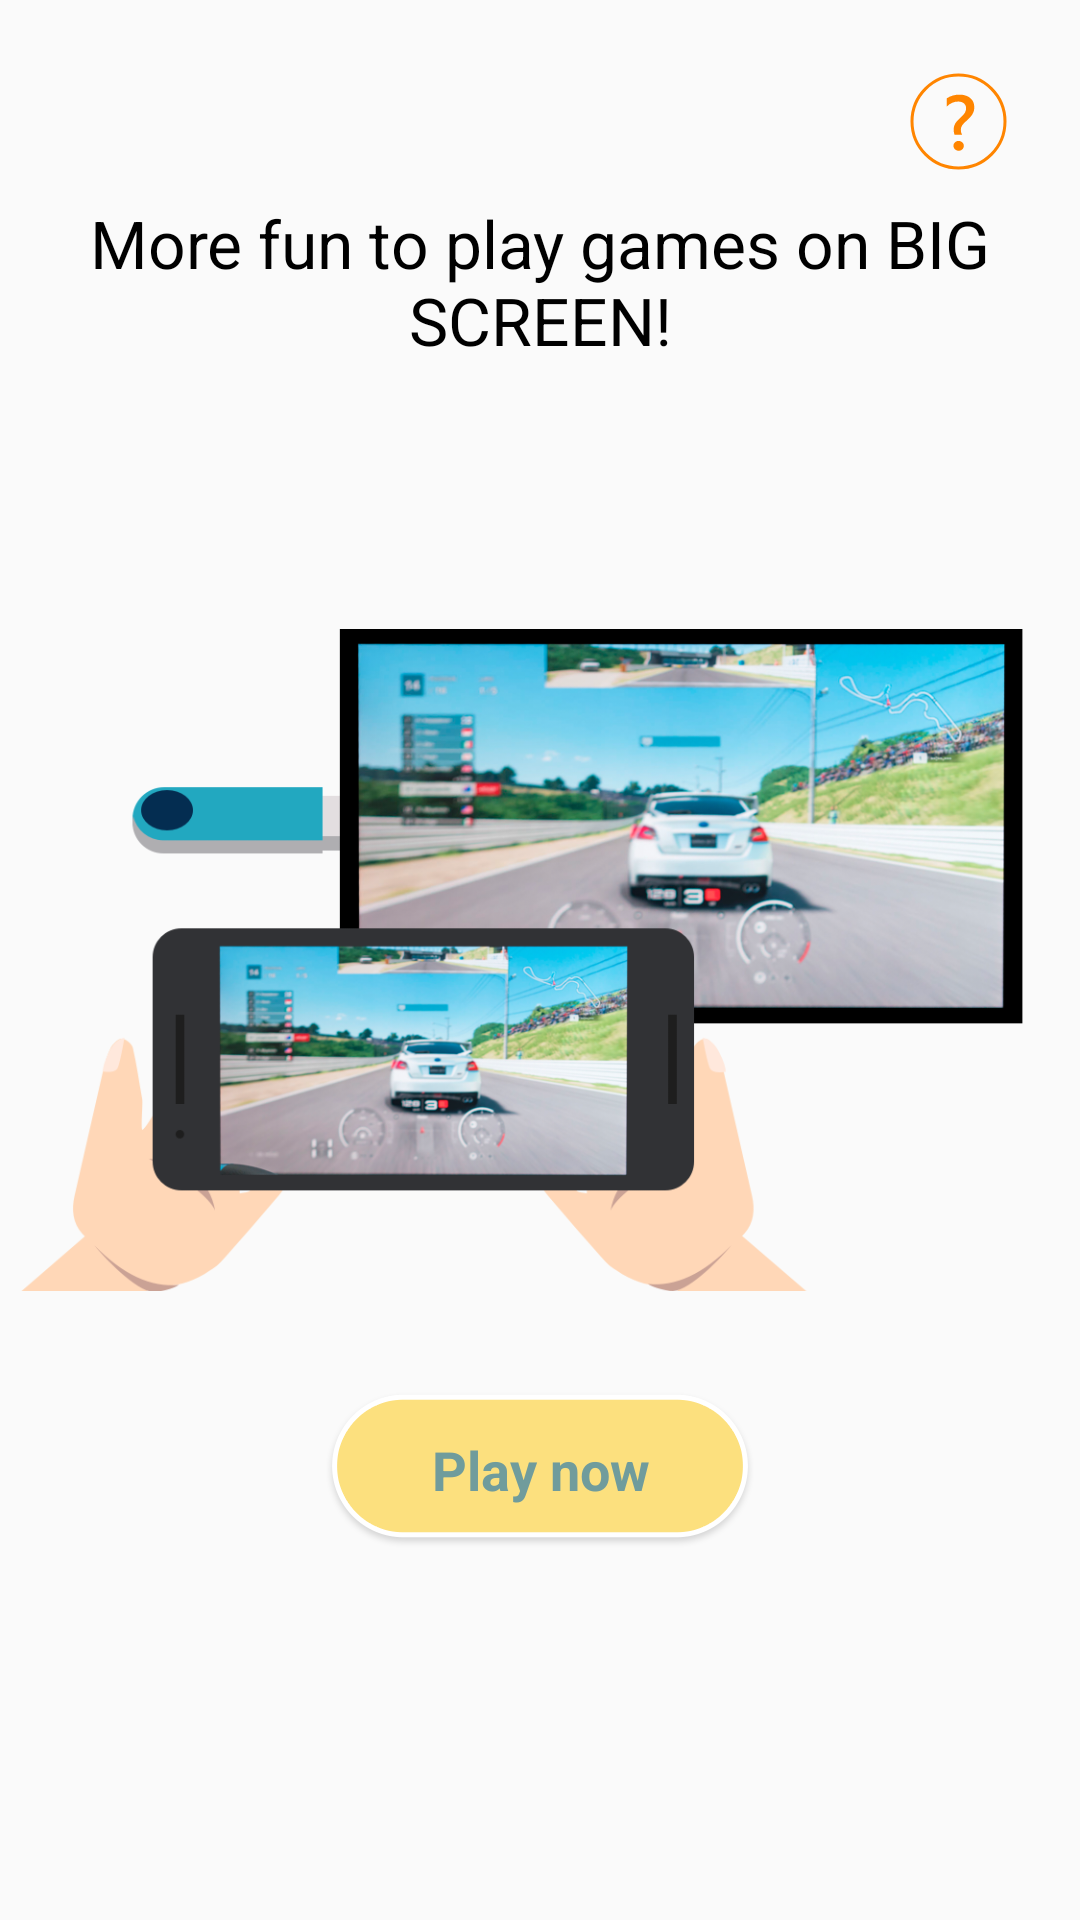

Icon bounding boxes for this 1080x1920 phone screenshot, format (x1, y1, x2, y2):
info: (910, 73, 1007, 170)
